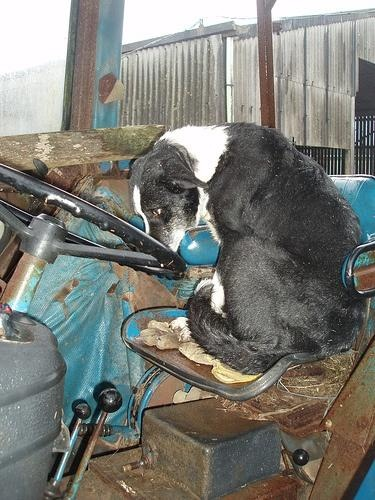dog: (127, 123, 369, 377)
